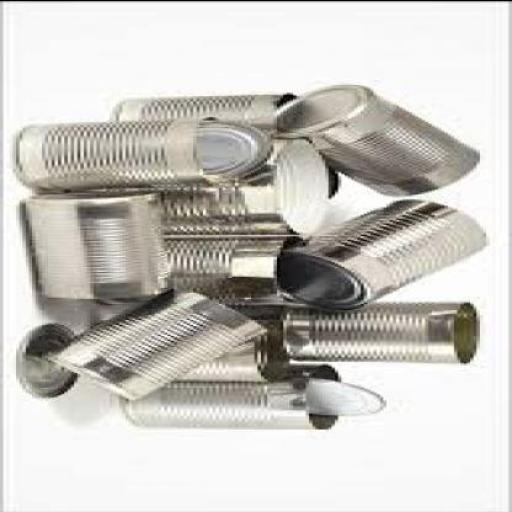metal: (55, 286, 274, 398), (280, 196, 489, 310), (280, 81, 487, 196), (158, 137, 338, 233), (29, 188, 174, 297), (96, 230, 313, 302), (23, 114, 212, 188), (126, 362, 344, 423), (287, 300, 486, 358), (116, 89, 302, 124), (22, 320, 80, 396), (202, 119, 274, 175), (309, 375, 390, 414)
